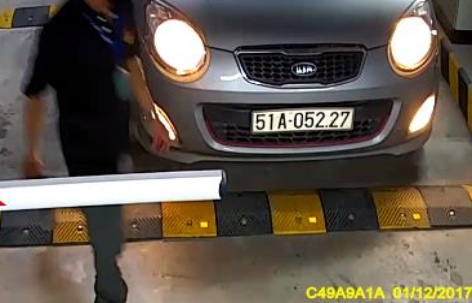plate: (250, 105, 355, 135)
